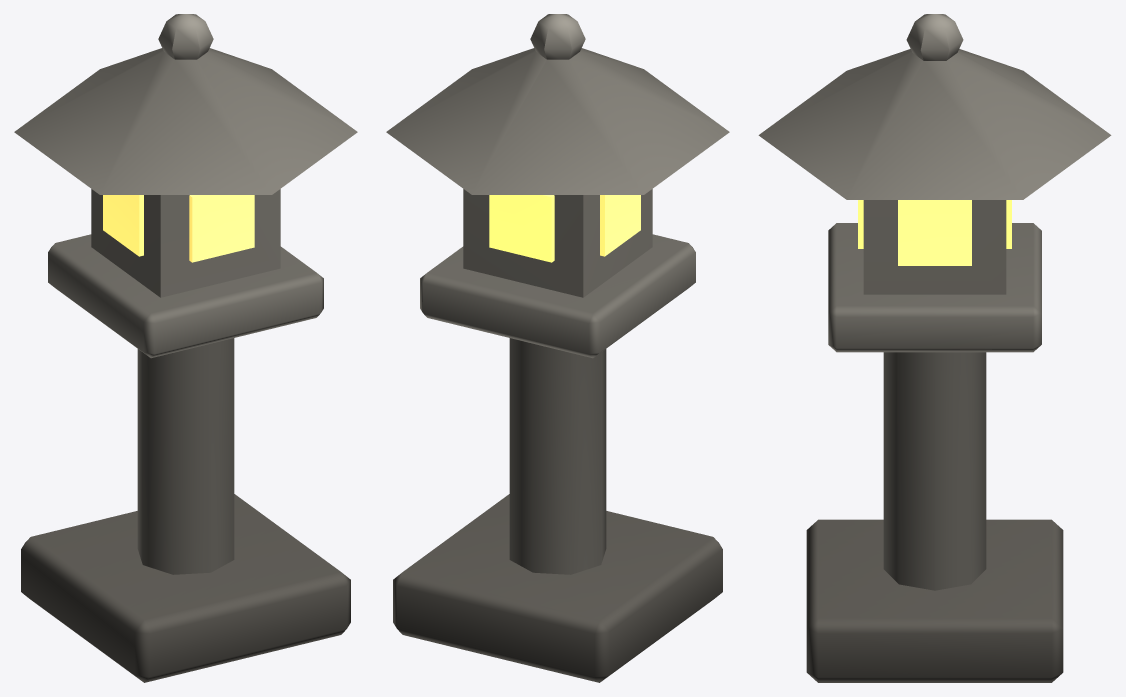
Rendered from prop.bamboo_lantern_stone.glb.
3 views of the same model, side by side, from view 1: azimuth 30°, elevation 25°; view 2: azimuth 150°, elevation 25°; view 3: azimuth 270°, elevation 25° (orthographic). The views are drawn at different scales.
Visible parts, largest first — view 1: bamboo_lantern_stone; view 2: bamboo_lantern_stone; view 3: bamboo_lantern_stone.
Part boxes in pixels (bbox=[...]): bamboo_lantern_stone: bbox=[14, 14, 357, 682]; bamboo_lantern_stone: bbox=[386, 14, 729, 682]; bamboo_lantern_stone: bbox=[758, 14, 1111, 682].
Bounding box in the file's own units: 1.07 × 2.4 × 1.24.
